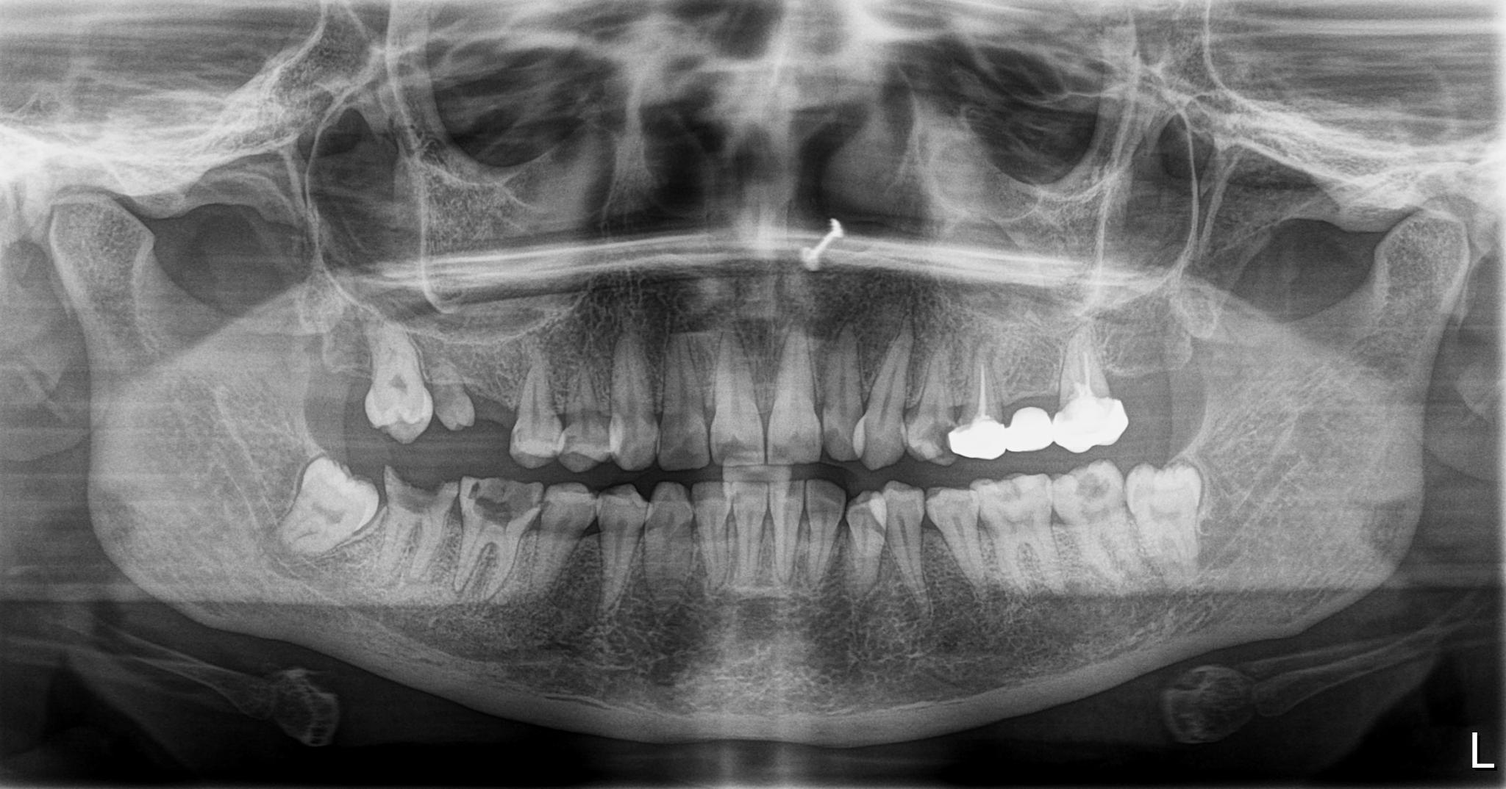Dental Caries: (463, 487, 543, 522), (1074, 474, 1117, 512), (393, 494, 436, 525)
Endodontically Treated Tooth: (1055, 340, 1111, 449), (956, 356, 1008, 471), (1004, 356, 1051, 450)
Impacted Third Molar: (279, 446, 380, 554), (1131, 472, 1235, 569)
Missing Tooth: (1120, 331, 1191, 449), (322, 309, 368, 435), (478, 362, 518, 456)
Retained Root: (425, 351, 474, 450)
